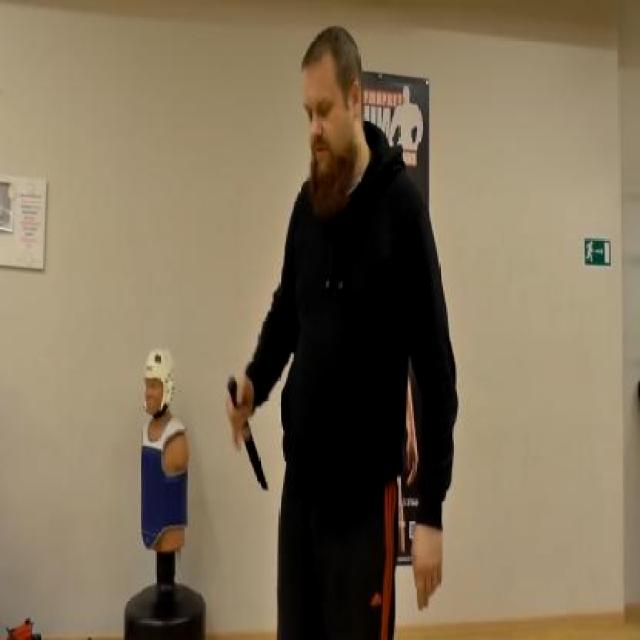knife: (224, 372, 270, 497)
